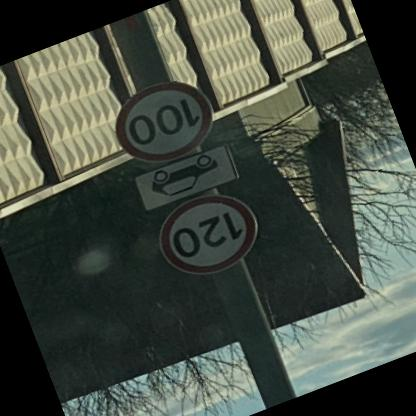speedlimit: (106, 70, 226, 176), (151, 182, 270, 288)
